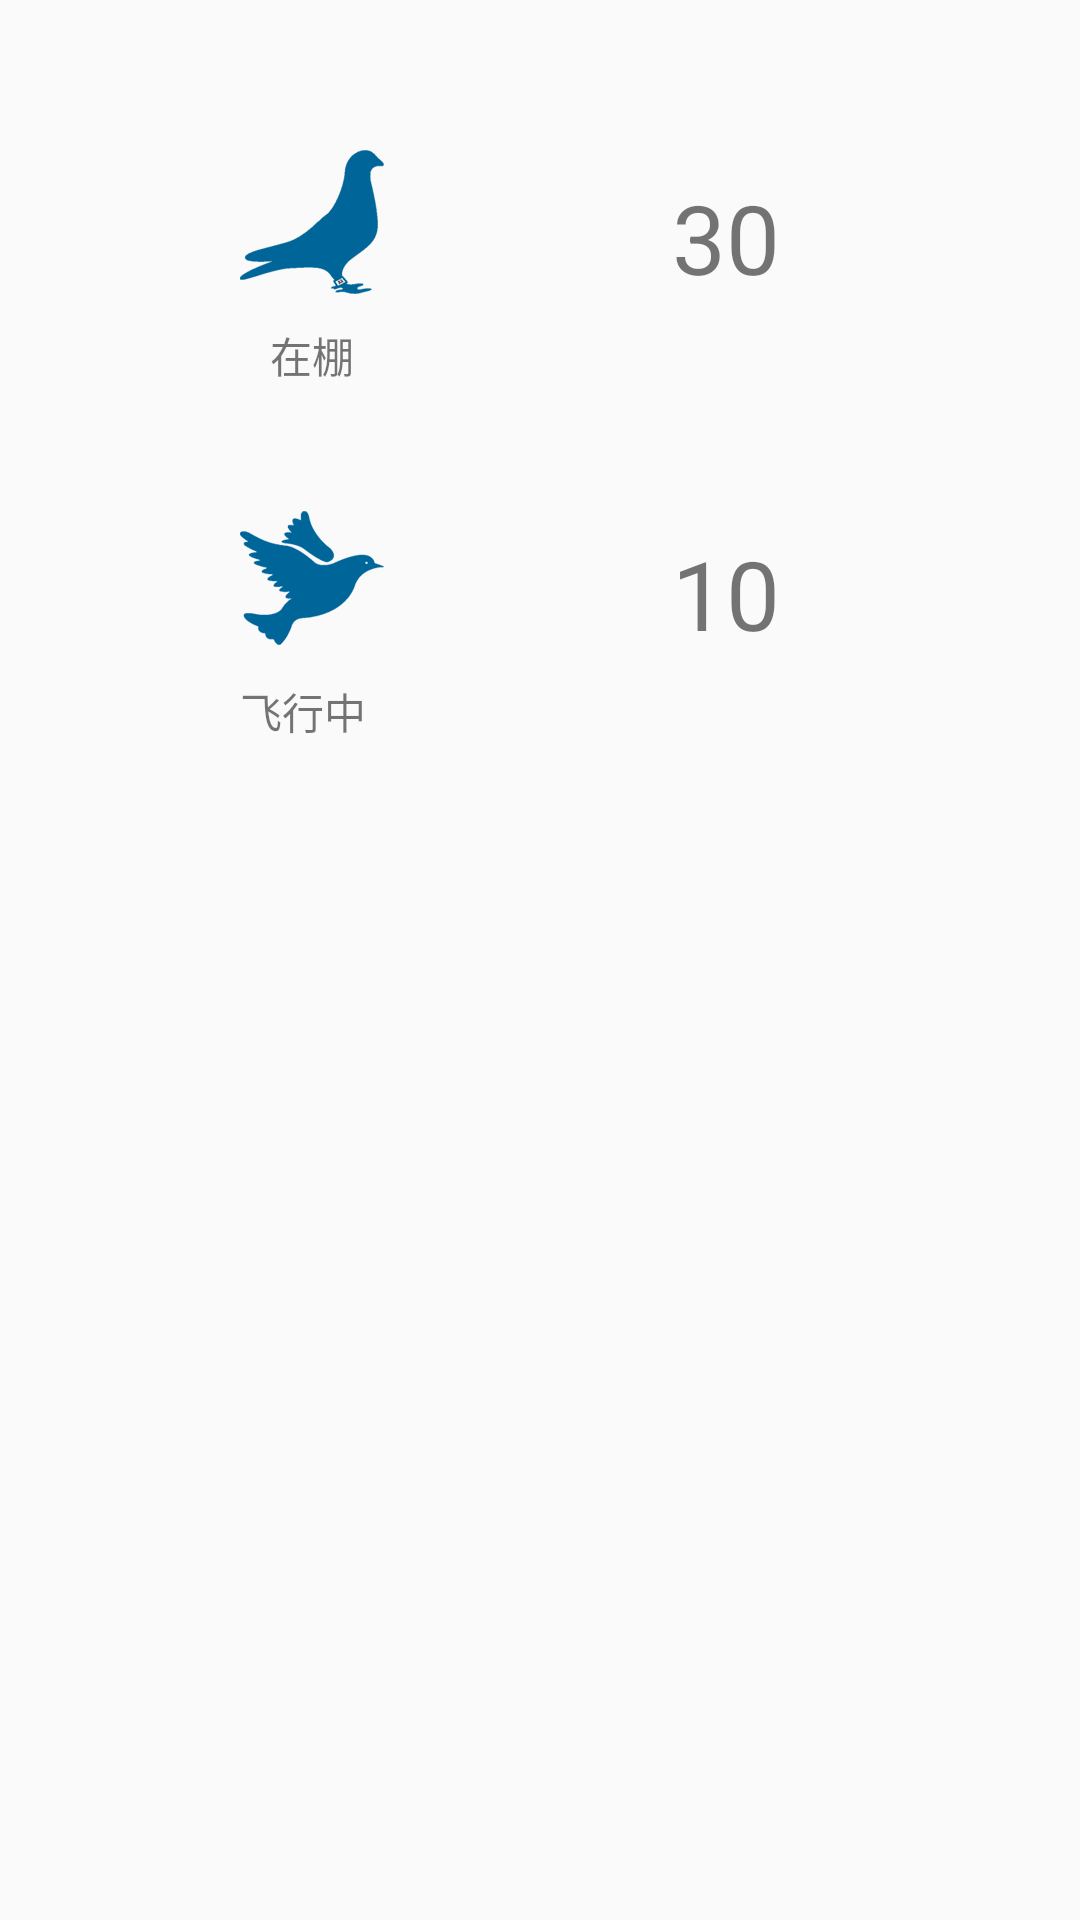

Where to tap for icons on this 1080x1920 app screen, as (x,y):
flying: (312,578)
